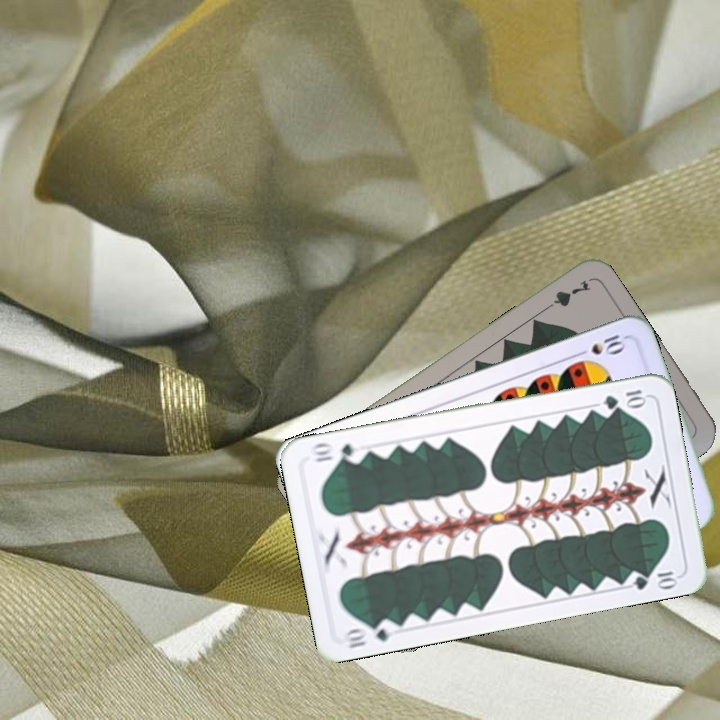G10: (339, 616, 399, 651), (600, 385, 649, 412)
G7: (538, 275, 593, 315)
S10: (571, 330, 629, 359)
